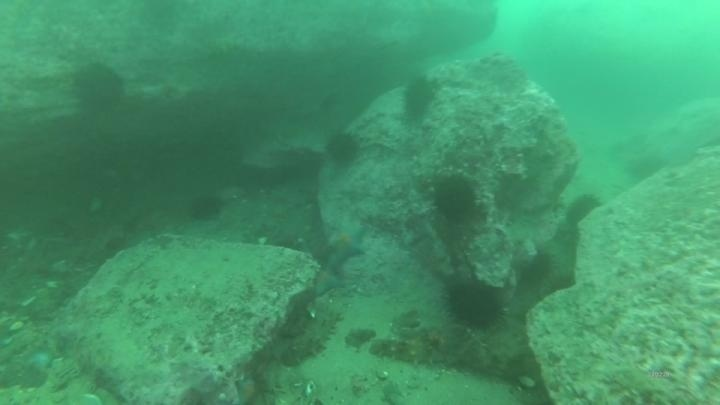echinus: (442, 275, 507, 332), (70, 62, 126, 115), (429, 172, 480, 224), (399, 74, 439, 122), (323, 129, 362, 168), (564, 192, 603, 229), (521, 249, 557, 288), (624, 153, 665, 186), (187, 191, 225, 224)
holothurian: (285, 308, 344, 369), (367, 333, 448, 369)
starfish: (324, 218, 370, 267), (310, 265, 346, 298), (232, 374, 262, 405)
